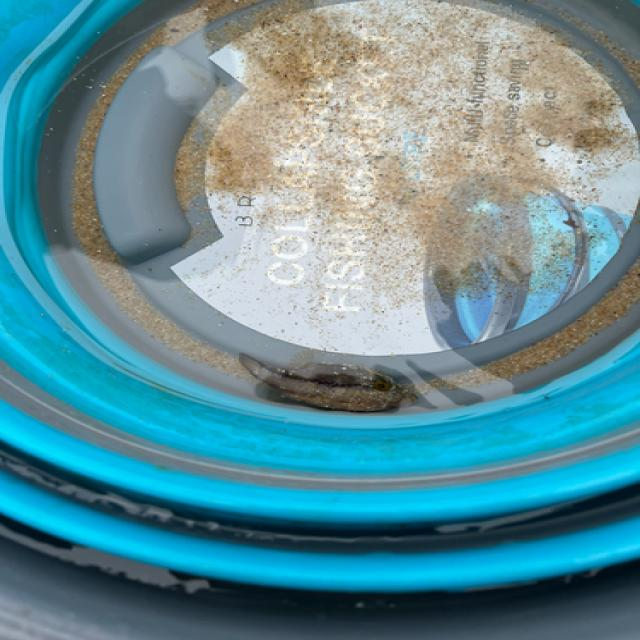Balik: (239, 354, 418, 412)
